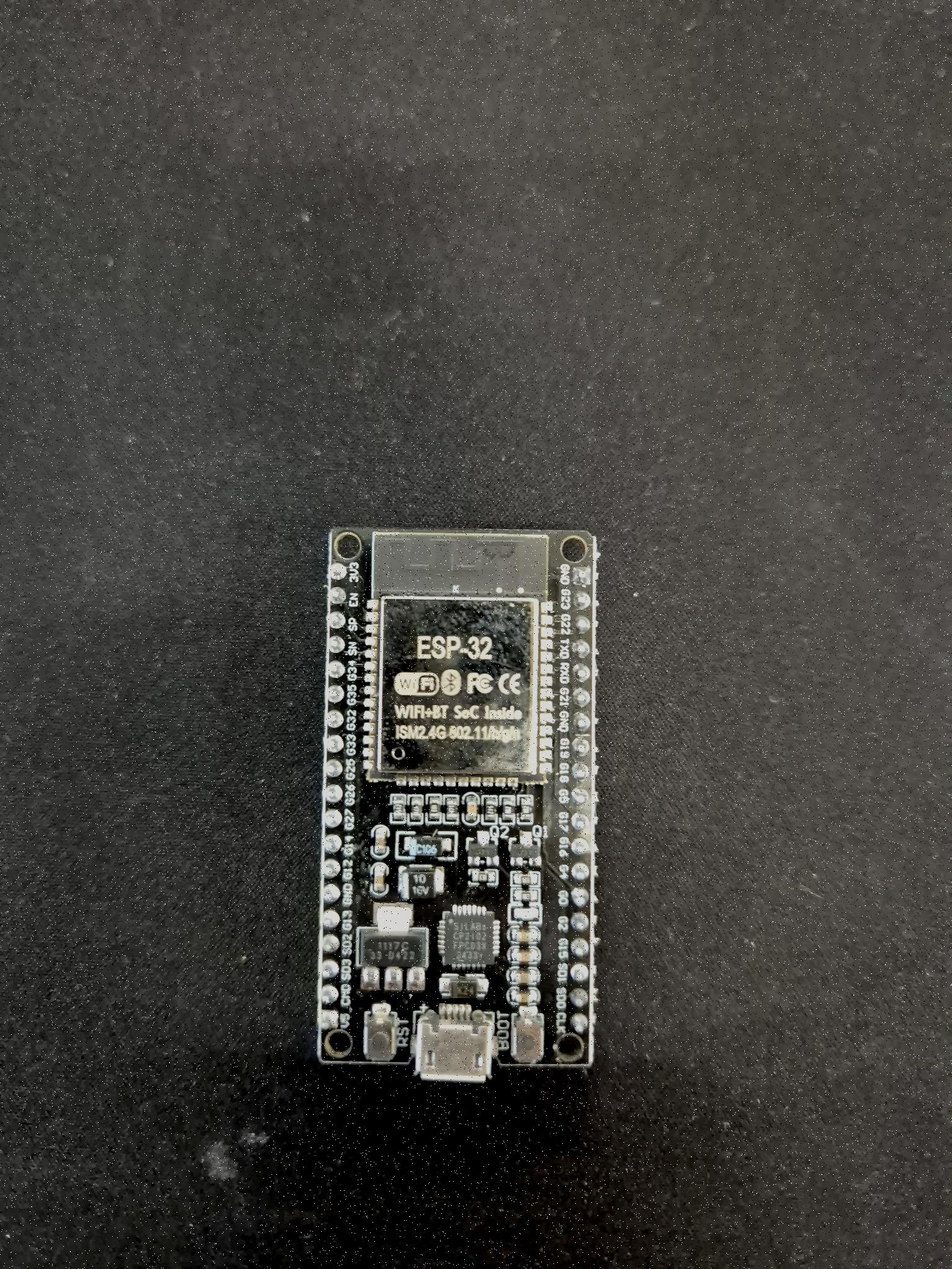esp32-dev: (318, 528, 597, 1082)
